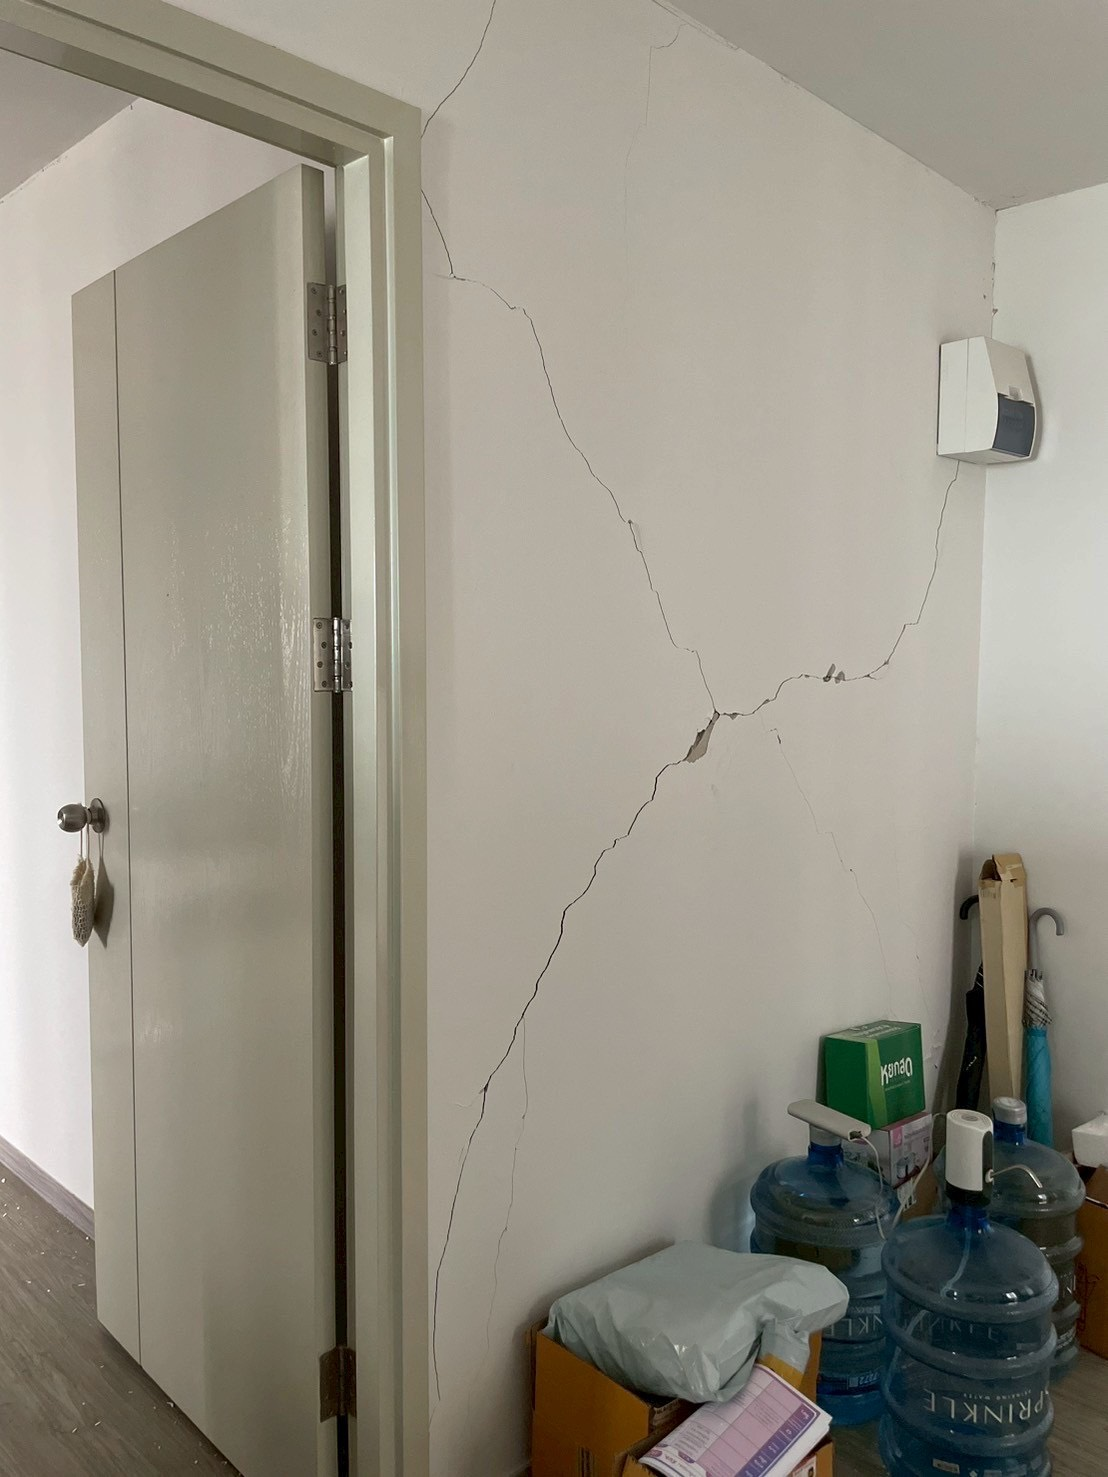High: (395, 3, 871, 1031)
